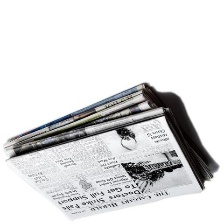news_paper: (4, 80, 218, 224)
